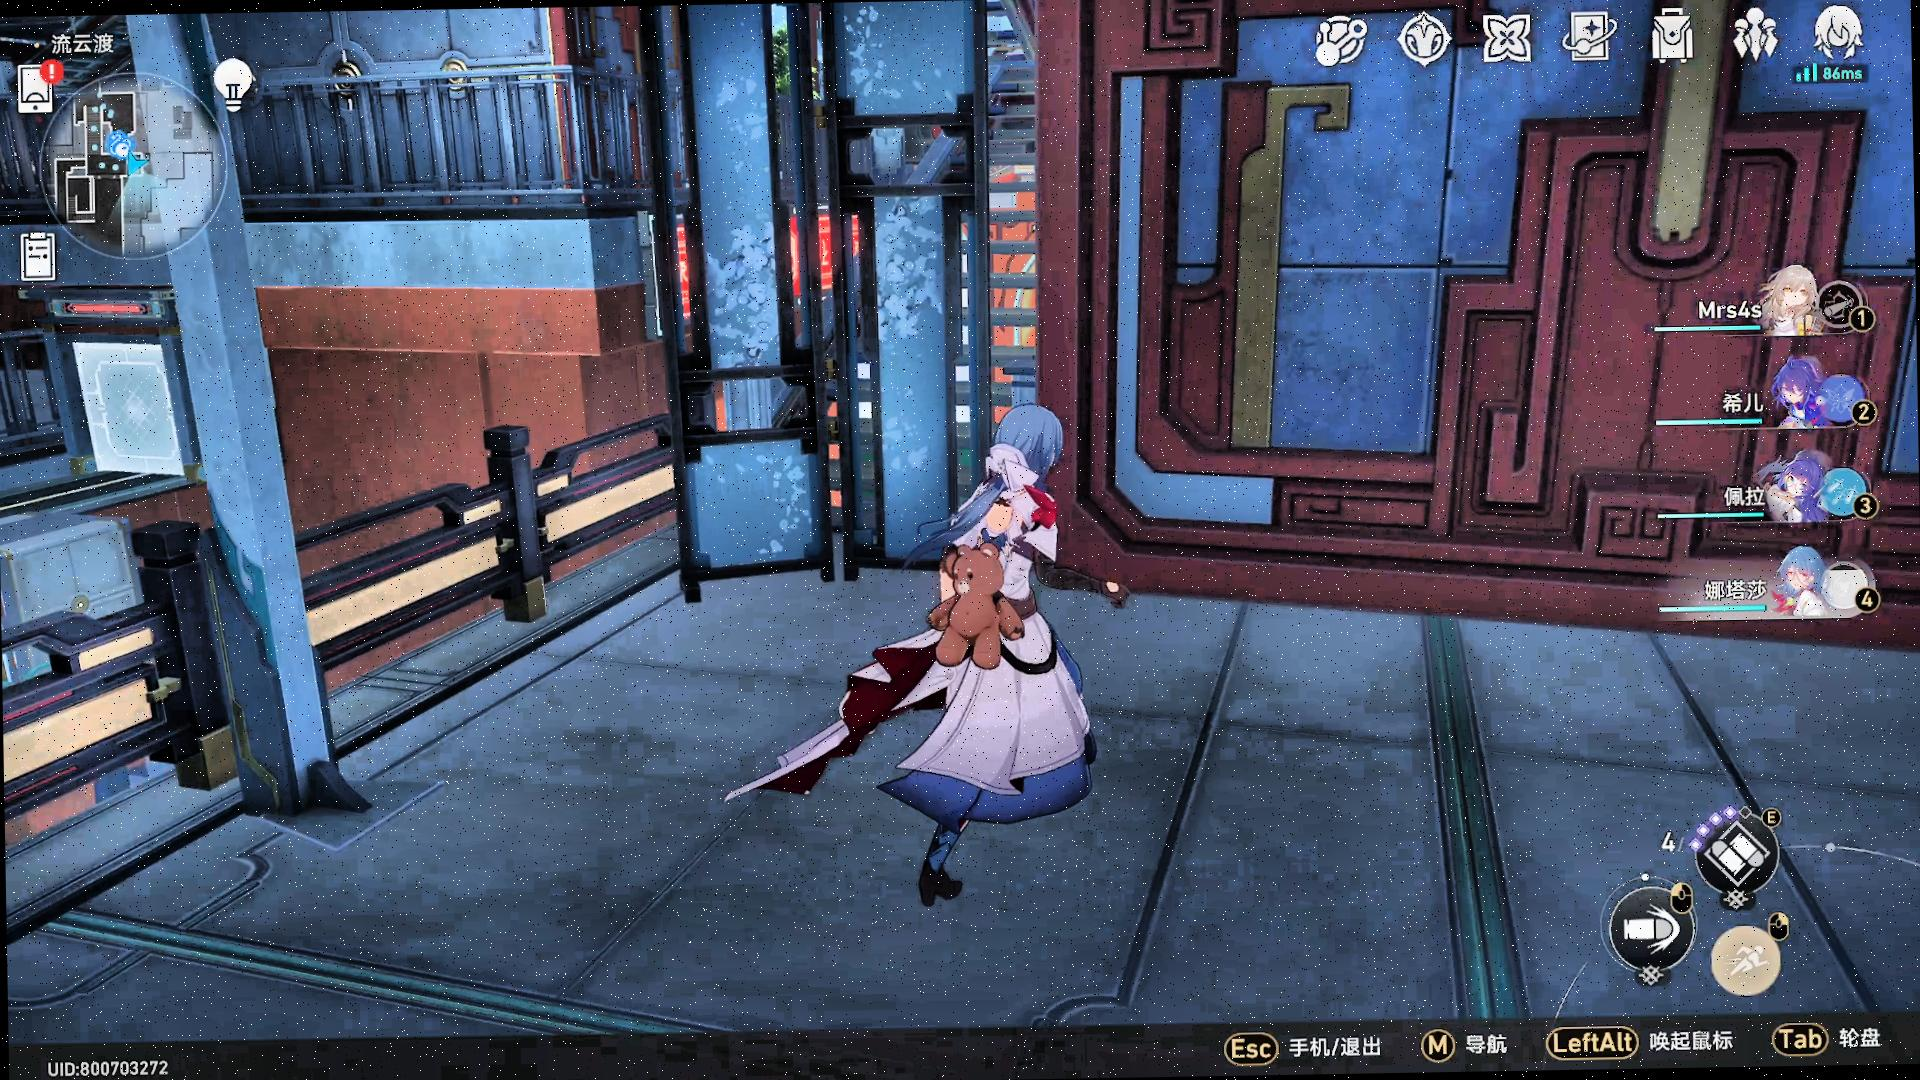Self: (717, 398, 1145, 928)
